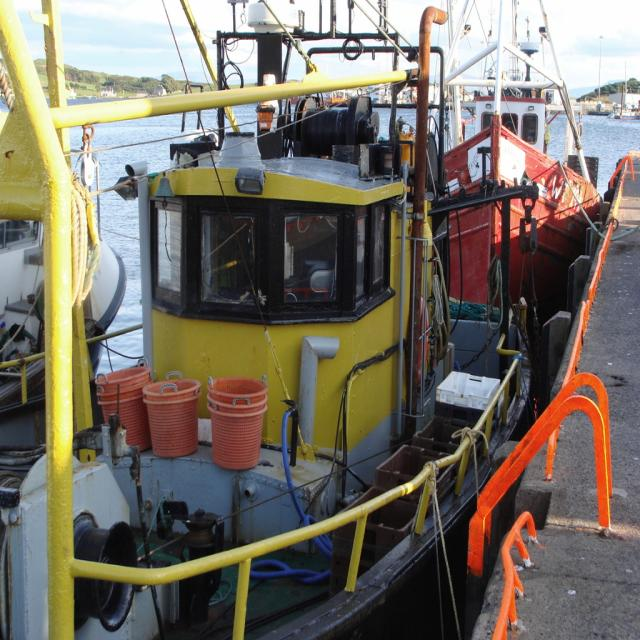Boat: (0, 0, 537, 639), (439, 0, 606, 354)
